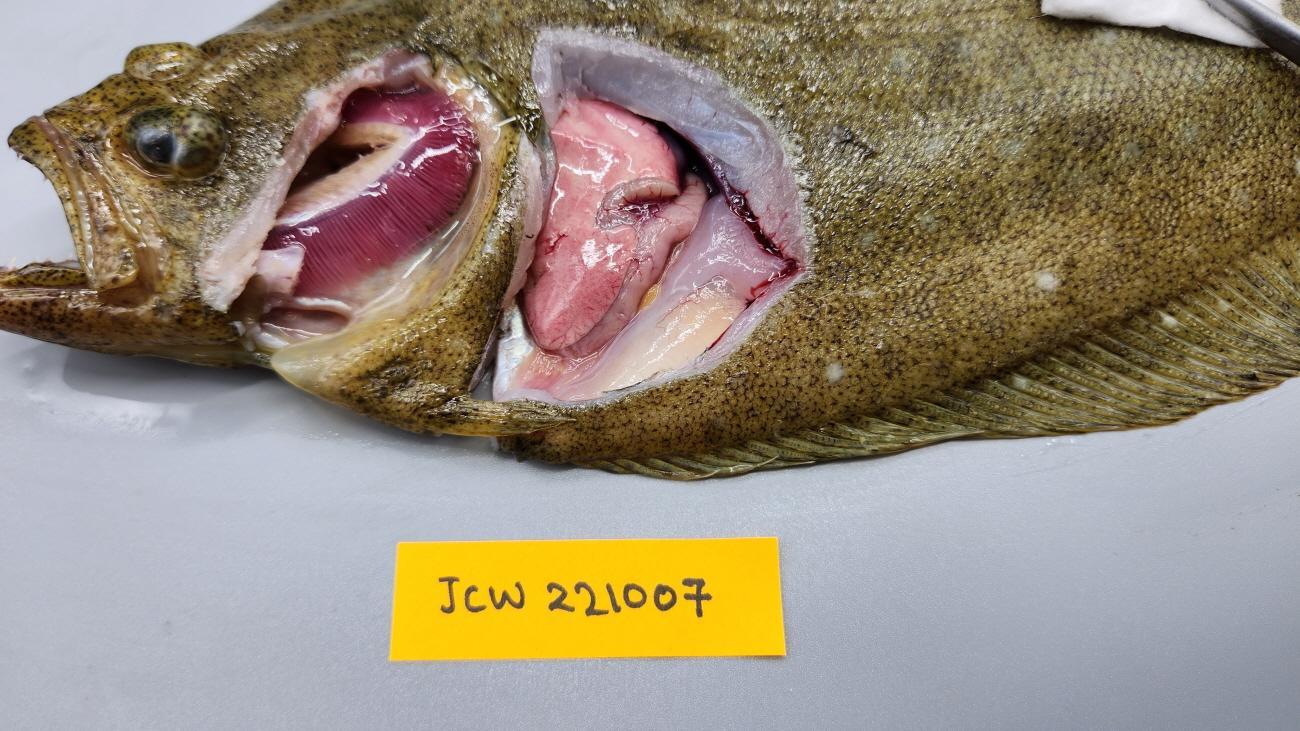POGIN: (260, 93, 479, 298)
POLIN: (518, 98, 679, 349)
